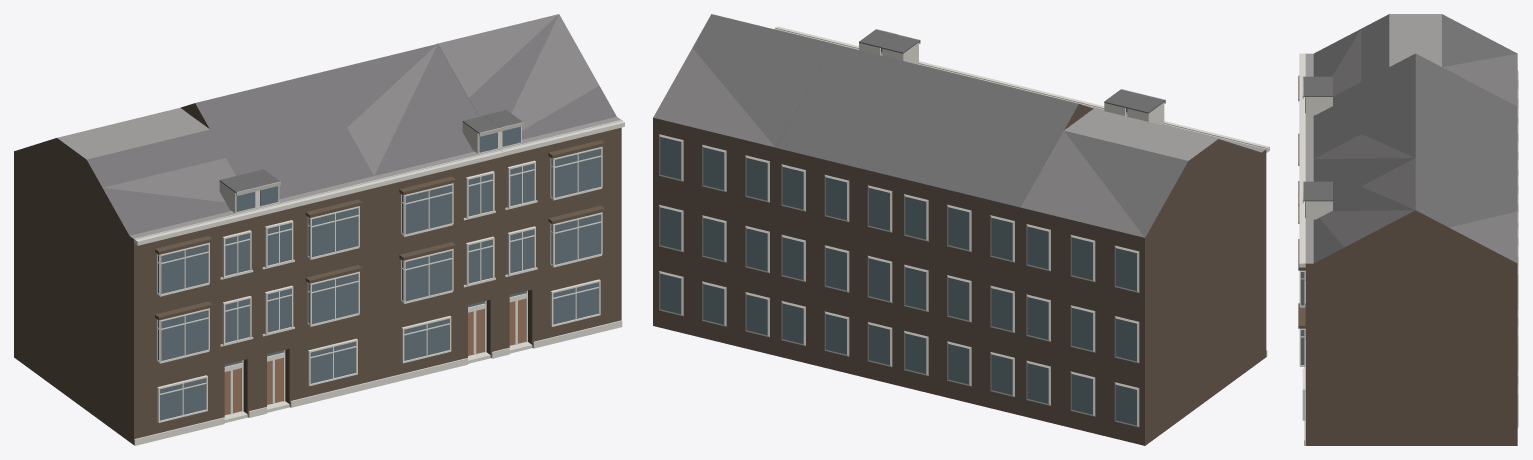
Rendered from chunk-face-treslong-21-35-b.glb.
The picture shows the model from 3 angles, left to right: view 1: azimuth 30°, elevation 25°; view 2: azimuth 150°, elevation 25°; view 3: azimuth 270°, elevation 25°; orthographic projection. The views are drawn at different scales.
Visible parts, largest first — view 1: face-treslong-21-35-b; view 2: face-treslong-21-35-b; view 3: face-treslong-21-35-b.
Part boxes in pixels (<box>): face-treslong-21-35-b: <box>14,14,624,445</box>; face-treslong-21-35-b: <box>653,14,1269,445</box>; face-treslong-21-35-b: <box>1298,14,1518,445</box>.
Size of the model in its own units: 24.5 by 12.81 by 10.85.
